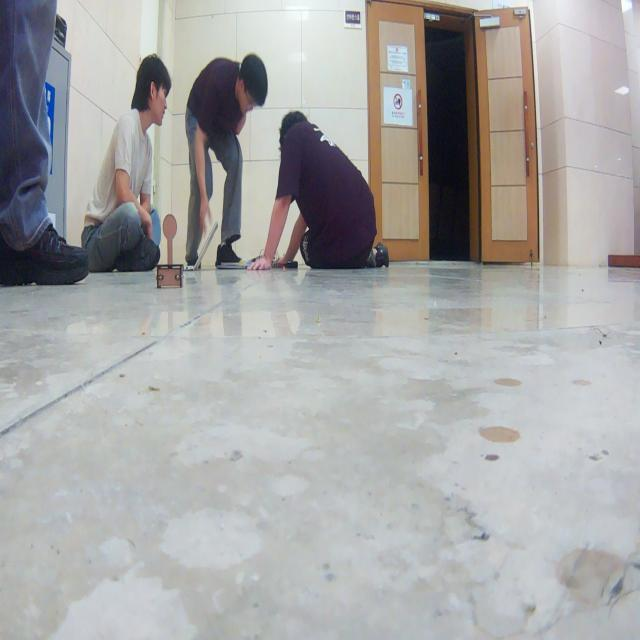target: (156, 212, 184, 288)
